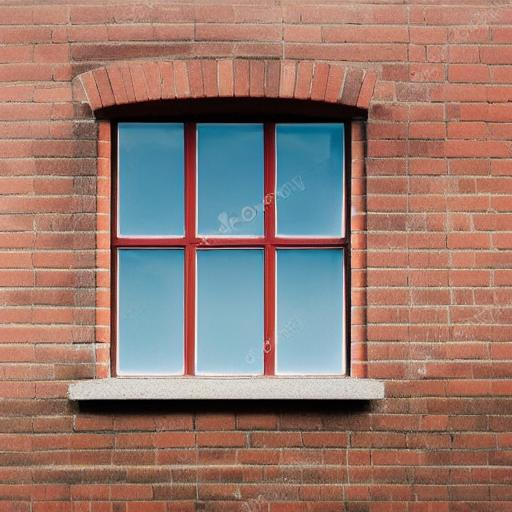Window: (69, 56, 389, 404)
